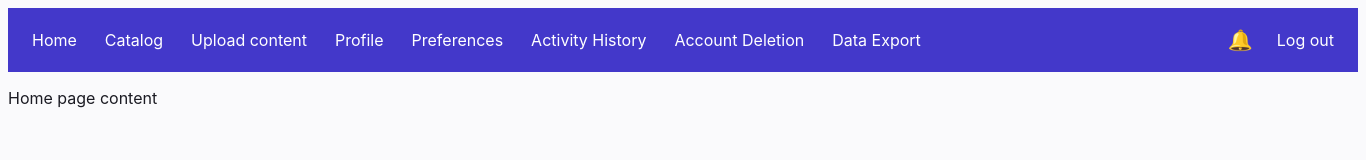
Test: AppHeader › clicking a nav link actually navigates to that route (Story 1.12, AC #1, #2)
Expected: the text "Home page content" is shown, [8,88,157,108]
Click the link "Catalog".
click(134, 40)  # box [105,30,163,50]
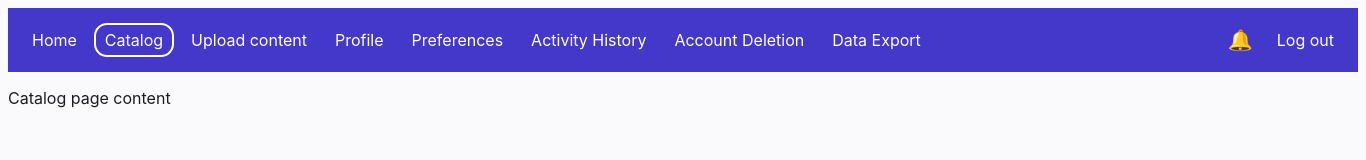
Now the text "Catalog page content" is shown, box [8,88,171,108]
Now the text "Home page content" is gone
